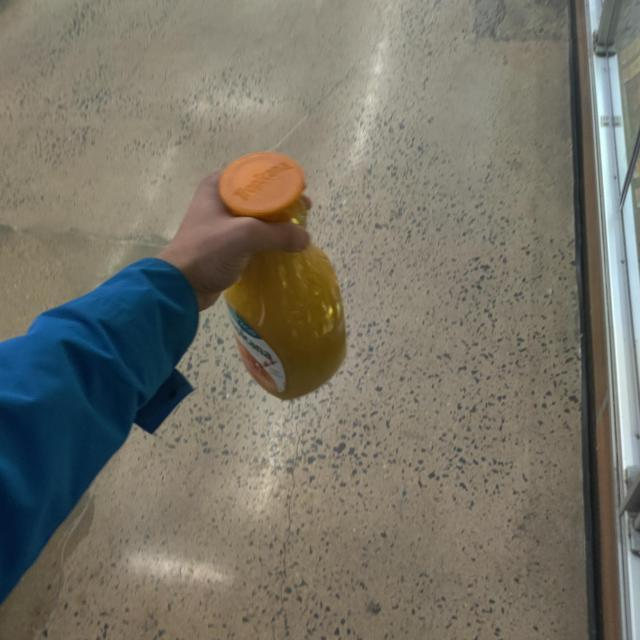Juice: (214, 154, 351, 402)
